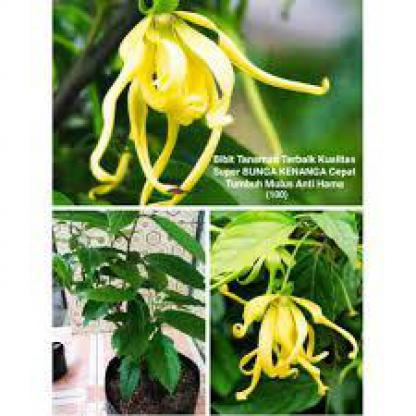Kenanga: (88, 18, 258, 180), (234, 284, 337, 391)
